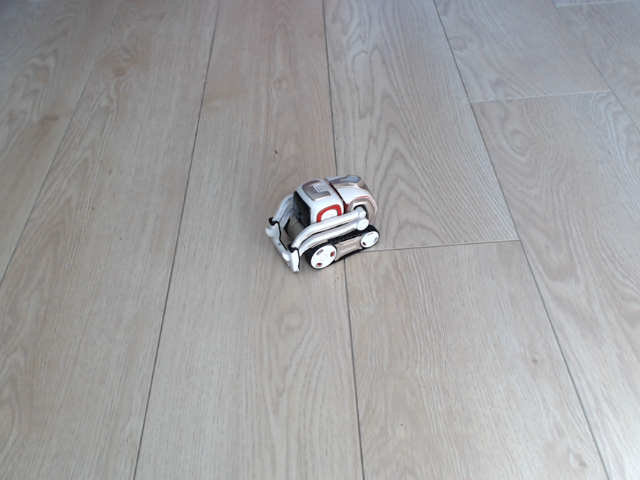cozmo: (264, 172, 382, 273)
